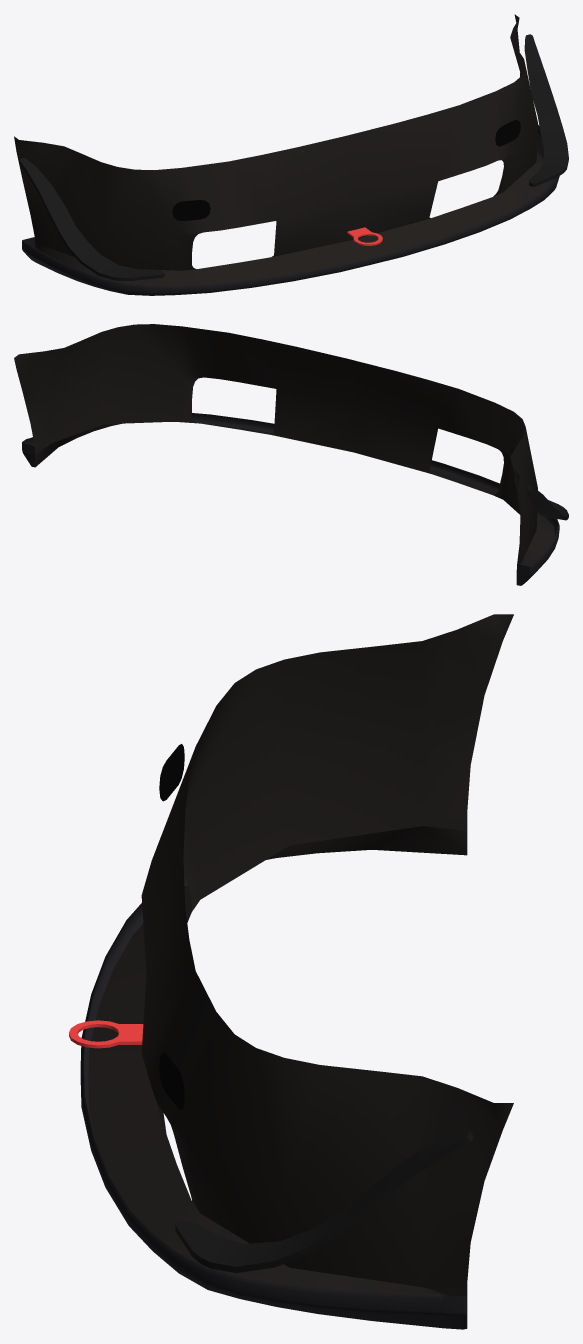
File: RWB_FB_02_Trim.fbx
The picture shows the model from 3 angles, top to bottom: view 1: azimuth 30°, elevation 25°; view 2: azimuth 150°, elevation 25°; view 3: azimuth 270°, elevation 25°; orthographic projection. The views are drawn at different scales.
Parts seen in each view (by area): view 1: RWB_FB_02_Trim; view 2: RWB_FB_02_Trim; view 3: RWB_FB_02_Trim.
Part boxes in pixels (x1,y1,x2,y2): RWB_FB_02_Trim: (14,14,568,295); RWB_FB_02_Trim: (14,324,568,585); RWB_FB_02_Trim: (69,614,513,1329).
Size of the model in its own units: 169 by 36.39 by 63.42.
